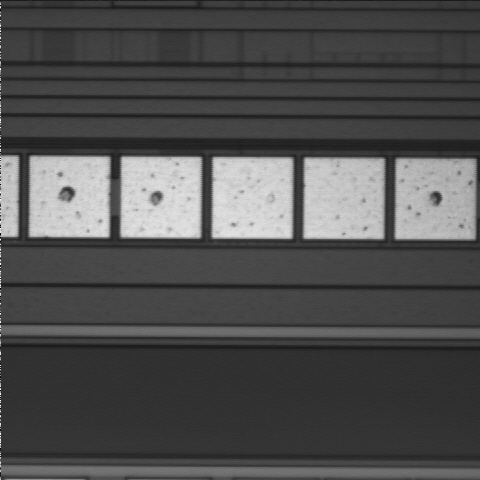pad: (121, 157, 201, 238), (212, 158, 292, 238), (30, 157, 109, 237), (304, 159, 383, 239), (396, 159, 474, 239)
